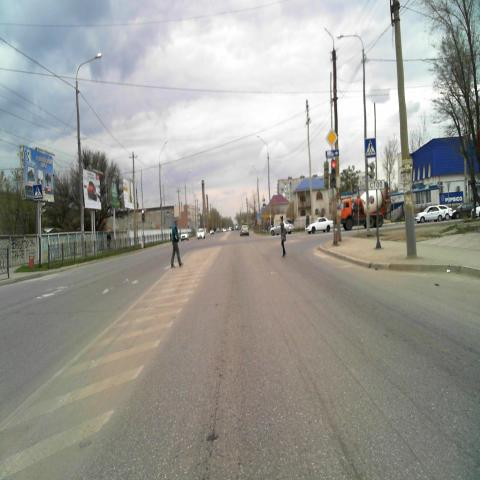6_15_2: (326, 150, 340, 159)
